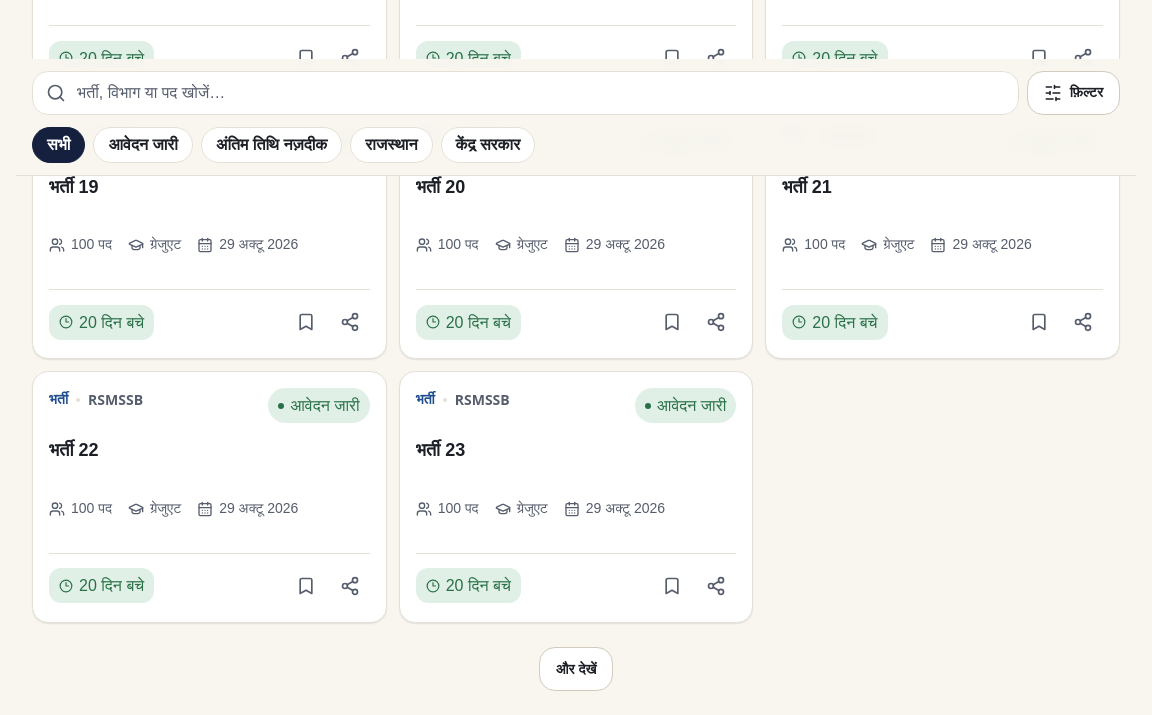
Test: Listing (/jobs) › loads more pages until the total is reached
(page scrolled)
Step 1. Click the button "और देखें" → (576, 669), box [539,647,613,691]
(page scrolled)
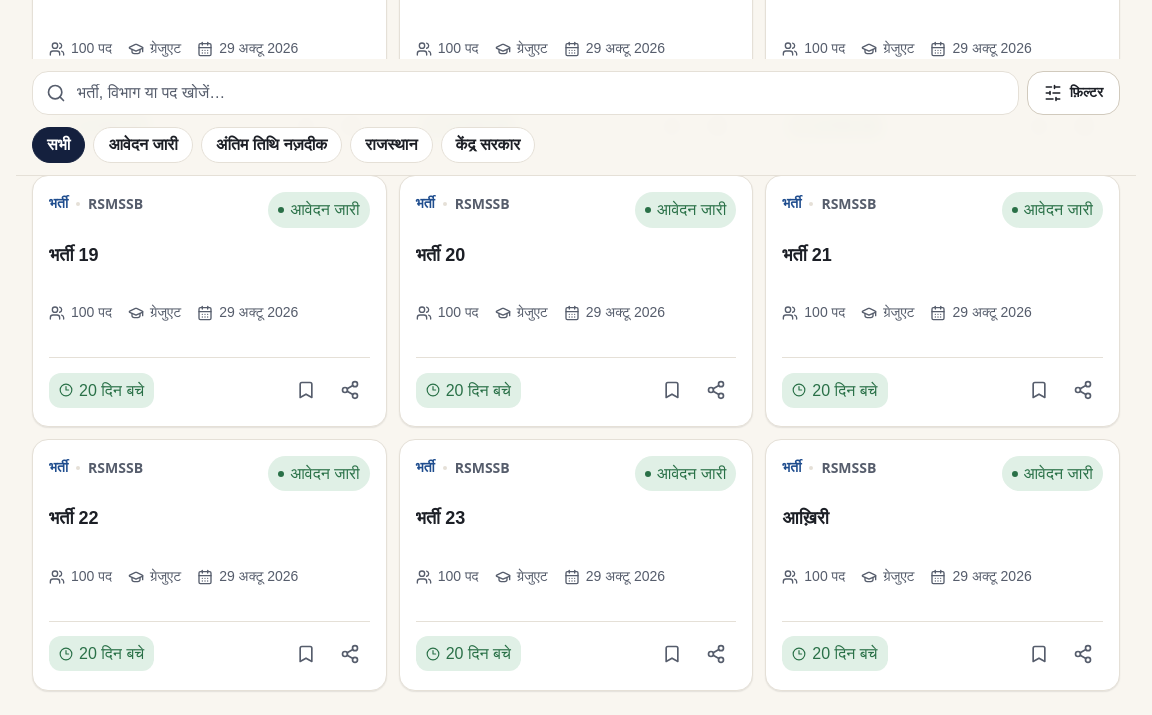
Result: the link "आख़िरी" is shown at [782,508,829,528]
Result: the button "और देखें" is gone
